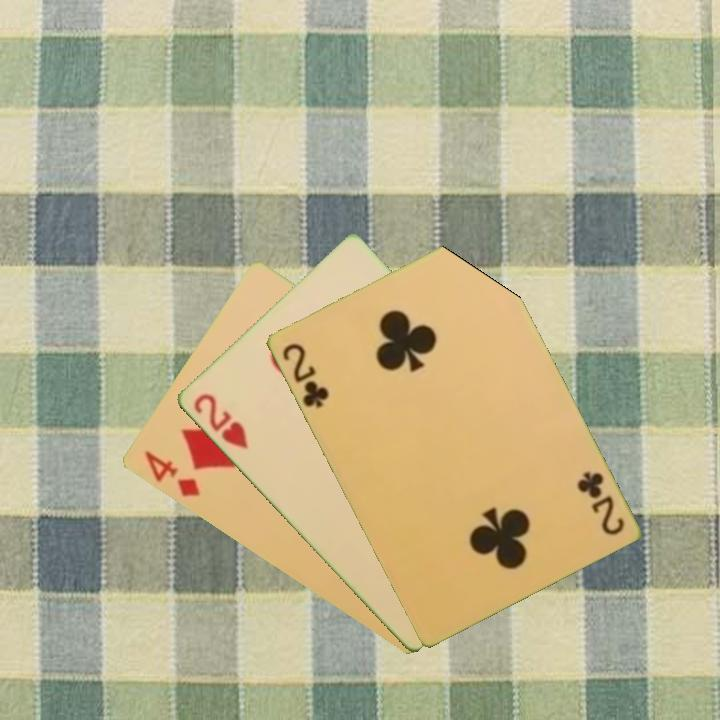2c: (278, 339, 332, 411), (573, 467, 627, 538)
2h: (189, 390, 251, 452)
4d: (140, 447, 203, 501)
